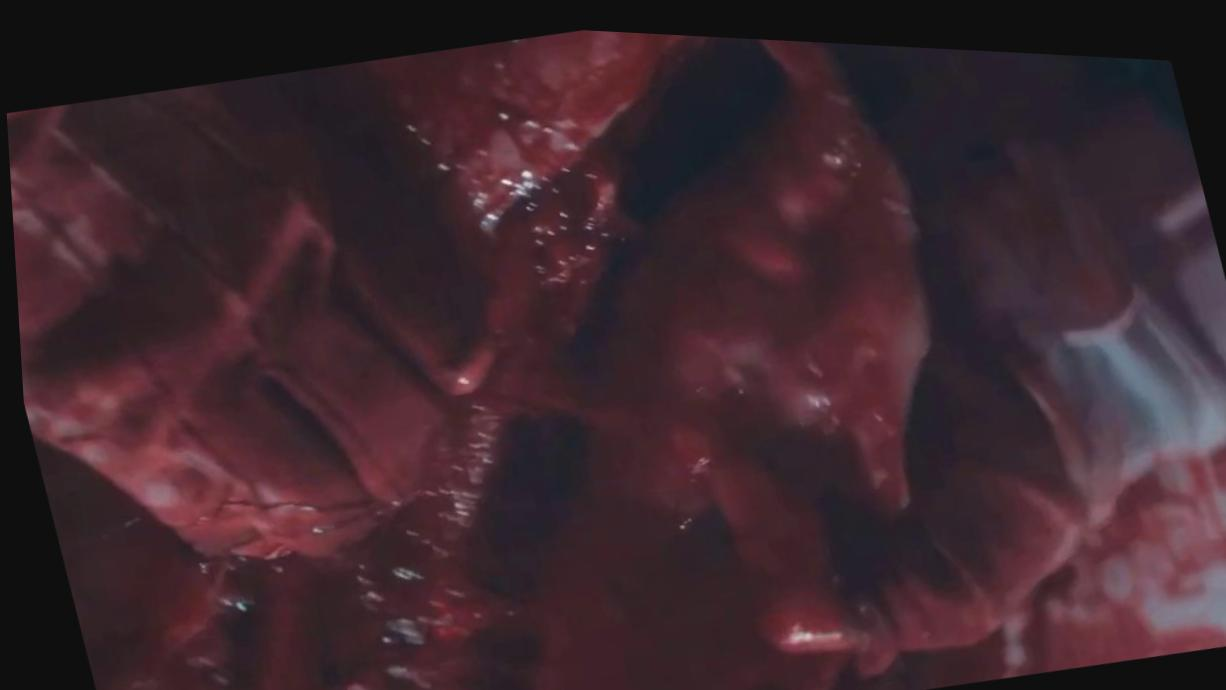Fire: (5, 24, 1226, 690)
